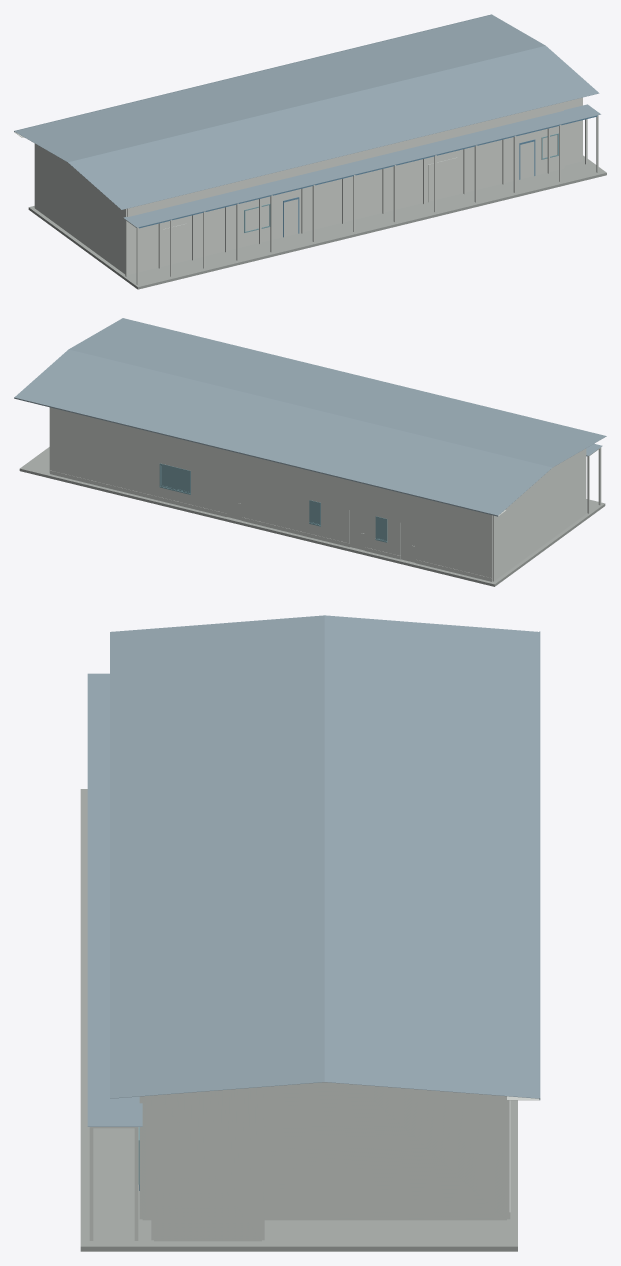
Rendered from oficina-administrativa.glb.
The picture shows the model from 3 angles, top to bottom: view 1: azimuth 30°, elevation 25°; view 2: azimuth 150°, elevation 25°; view 3: azimuth 270°, elevation 25°; orthographic projection. The views are drawn at different scales.
Visible parts, largest first — view 1: Basic Roof VOCATUS Oficina - Cubierta existente represe_23b7, Basic Wall VOCATUS Oficina - Existente 150 mm [1241796], Floor VOCATUS Oficina - Losa existente 150mm representa_b7da, VOCATUS Oficina - Cubierta corredor [1242357], Basic Wall VOCATUS Oficina - Existente 150 mm [1241797], Basic Wall VOCATUS Oficina - Existente 150 mm [1242045], VOCATUS - Fascia trasera blanca [1242557]; view 2: Basic Roof VOCATUS Oficina - Cubierta existente represe_23b7, Basic Wall VOCATUS Oficina - Fachada trasera blanca150m_1214, Basic Wall VOCATUS Oficina - Existente 150 mm [1241797], Floor VOCATUS Oficina - Losa existente 150mm representa_b7da, VOCATUS - Fascia trasera blanca [1242557], VOCATUS - Zocalo trasero azul 4 [1242555], Window-Casement-Double VOCATUS Oficina - Ventana traser_411f, Door-Passage-Single-Flush VOCATUS Oficina - Trasera vid_4ee8, Door-Passage-Single-Flush VOCATUS Oficina - Trasera vid_3be1, Door-Passage-Single-Flush VOCATUS Oficina - Trasera vid_e490, VOCATUS - Zocalo trasero azul 3 [1242554]; view 3: Basic Roof VOCATUS Oficina - Cubierta existente represe_23b7, Basic Wall VOCATUS Oficina - Existente 150 mm [1241826], Floor VOCATUS Oficina - Losa existente 150mm representa_b7da, Basic Wall VOCATUS Oficina - Existente 150 mm [1242021], VOCATUS Oficina - Cubierta corredor [1242357], VOCATUS - Fascia trasera blanca [1242557].
Boxes of the visible parts, x1,y1,x2,y2 form: Basic Roof VOCATUS Oficina - Cubierta existente represe_23b7: (14,15,599,209); Basic Wall VOCATUS Oficina - Existente 150 mm [1241796]: (127,102,563,274); Floor VOCATUS Oficina - Losa existente 150mm representa_b7da: (28,155,606,289); VOCATUS Oficina - Cubierta corredor [1242357]: (123,104,600,227); Basic Wall VOCATUS Oficina - Existente 150 mm [1241797]: (34,143,126,274); Basic Wall VOCATUS Oficina - Existente 150 mm [1242045]: (564,97,582,165); VOCATUS - Fascia trasera blanca [1242557]: (14,14,491,131); Basic Roof VOCATUS Oficina - Cubierta existente represe_23b7: (15,318,606,515); Basic Wall VOCATUS Oficina - Fachada trasera blanca150m_1214: (50,407,492,581); Basic Wall VOCATUS Oficina - Existente 150 mm [1241797]: (492,448,586,581); Floor VOCATUS Oficina - Losa existente 150mm representa_b7da: (19,447,605,586); VOCATUS - Fascia trasera blanca [1242557]: (14,397,498,516); VOCATUS - Zocalo trasero azul 4 [1242555]: (50,470,226,516); Window-Casement-Double VOCATUS Oficina - Ventana traser_411f: (160,465,189,493); Door-Passage-Single-Flush VOCATUS Oficina - Trasera vid_4ee8: (226,480,242,520); Door-Passage-Single-Flush VOCATUS Oficina - Trasera vid_3be1: (400,523,416,562); Door-Passage-Single-Flush VOCATUS Oficina - Trasera vid_e490: (349,510,365,550); VOCATUS - Zocalo trasero azul 3 [1242554]: (241,517,349,547); Basic Roof VOCATUS Oficina - Cubierta existente represe_23b7: (110,615,539,1098); Basic Wall VOCATUS Oficina - Existente 150 mm [1241826]: (142,1082,506,1220); Floor VOCATUS Oficina - Losa existente 150mm representa_b7da: (80,789,517,1251); Basic Wall VOCATUS Oficina - Existente 150 mm [1242021]: (154,1087,261,1241); VOCATUS Oficina - Cubierta corredor [1242357]: (87,673,142,1126); VOCATUS - Fascia trasera blanca [1242557]: (539,631,540,1100).
Bounding box in the file's own units: 30.68 × 5.2 × 12.78.
